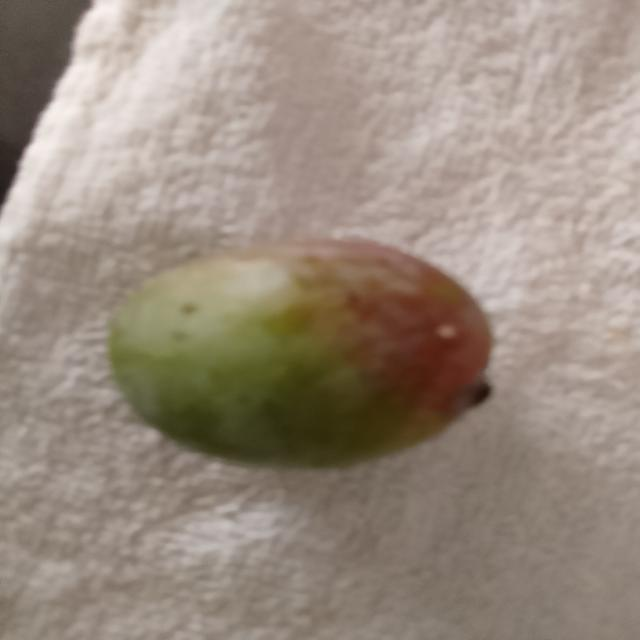mango: (102, 236, 500, 467)
